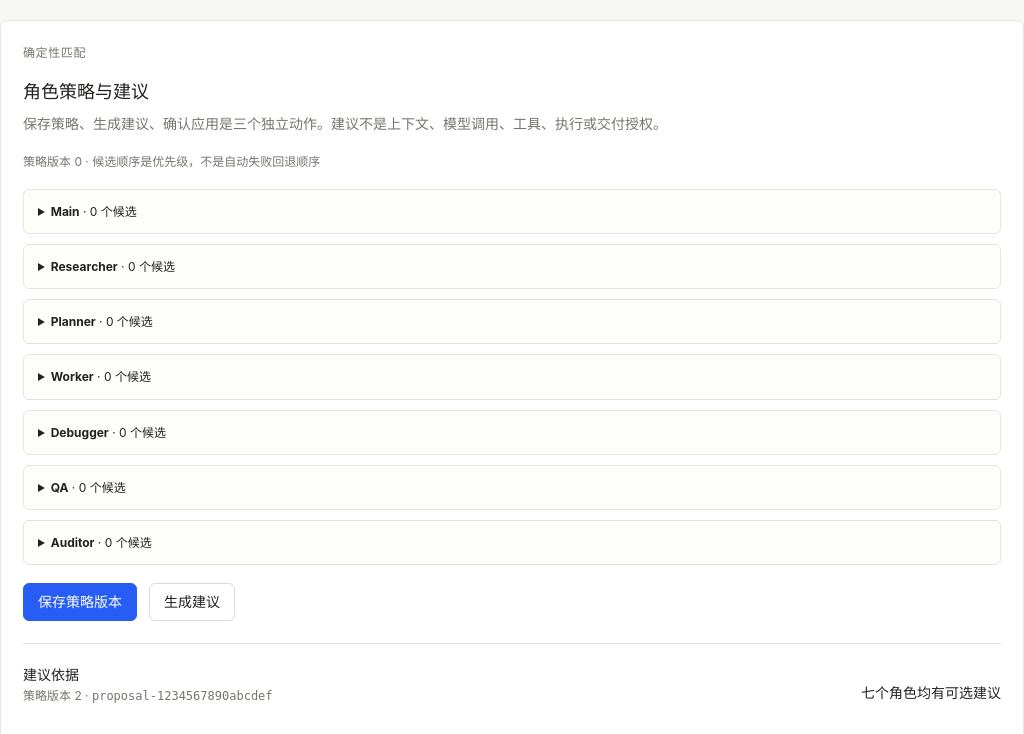
Scenario: invalidates the local proposal after any edit and never autosubmits a replacement
The width and height of the screenshot is (1024, 734).
Expected: the text "七个角色均有可选建议" is shown, [861,682,1001,705]
Click the heading named "编辑 Main 策略，0 个候选".
click(94, 211)  # box [51,204,137,219]
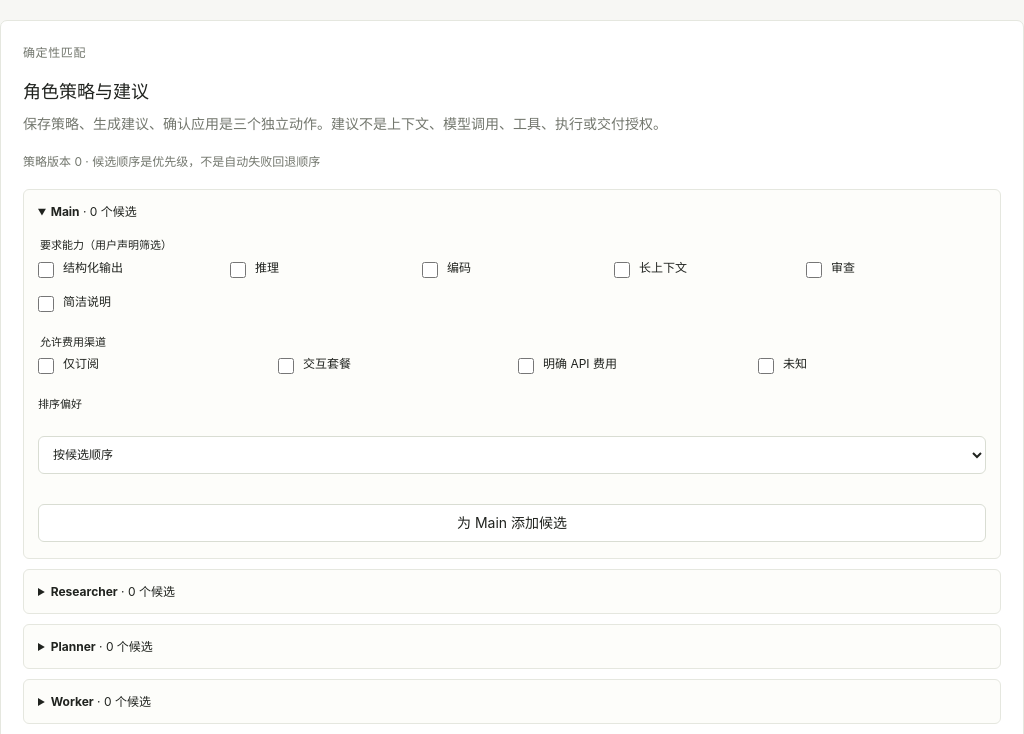
Click the button "为 Main 添加候选".
click(512, 523)  # box [38,504,986,542]
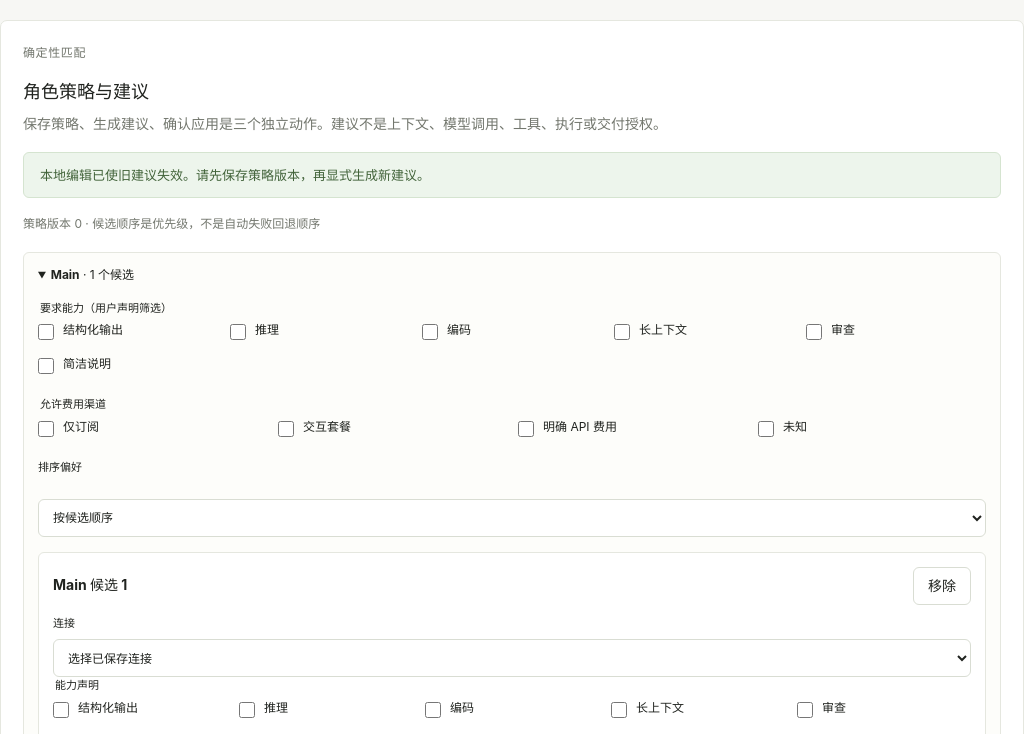
Now the text "本地编辑已使旧建议失效。请先保存策略版本，再显式生成新建议。" is shown, box [23,152,1001,198]
